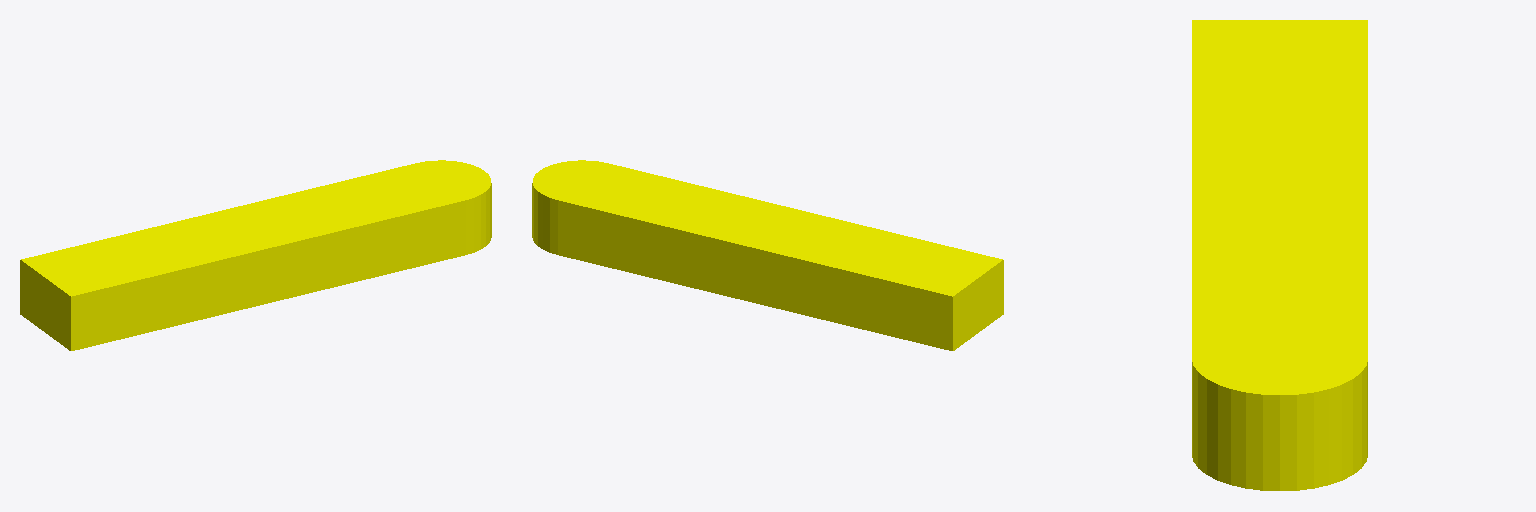
URDF robot description (Ship):
<?xml version="1.0"?>
<robot name="Ship">
  <link name="Ship">
    <visual>
      <geometry>
        <box size="1.13 .25 .15"/>
      </geometry>
      <origin rpy="0 0 0" xyz="0 0 0"/>
      <material name="yellow">
        <color rgba="1 1 0 1"/>
      </material>
    </visual>
  </link>

  <link name="nose">
    <visual>
      <geometry>
        <cylinder length="0.15" radius="0.125"/>
      </geometry>
      <origin rpy="0 0 0" xyz="0.565 0 0"/>
      <material name="yellow">
        <color rgba="1 1 0 1"/>
      </material>
    </visual>
  </link>
  
  <joint name="base_to_nose" type="fixed">
    <parent link="Ship"/>
    <child link="nose"/>
    <origin xyz="0 0 0"/>
  </joint>  
</robot>

--- Facts derived from the render (not from the file) ---
Views: 3 orthographic renders of the robot side by side, from view 1: azimuth 30°, elevation 25°; view 2: azimuth 150°, elevation 25°; view 3: azimuth 270°, elevation 25°.
Robot: Ship — 2 links, 1 joints (1 fixed); root link Ship; default pose: all joints at 0.
Visible links, largest first — view 1: Ship, nose; view 2: Ship, nose; view 3: Ship, nose.
Boxes of the visible links, left/top/right/bottom form: Ship: left=20, top=163, right=465, bottom=350; nose: left=392, top=160, right=491, bottom=254; Ship: left=558, top=164, right=1003, bottom=350; nose: left=532, top=160, right=631, bottom=254; Ship: left=1192, top=20, right=1367, bottom=357; nose: left=1192, top=321, right=1367, bottom=490.
Bounding box of the posed robot: 1.25 × 0.25 × 0.15 m (x, y, z).
Geometry: primitives only (box / cylinder / sphere), no mesh files.